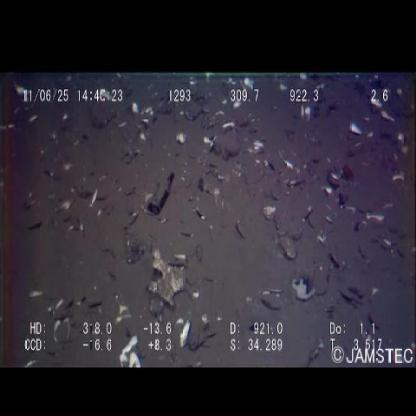Rác: (120, 124, 318, 374)
